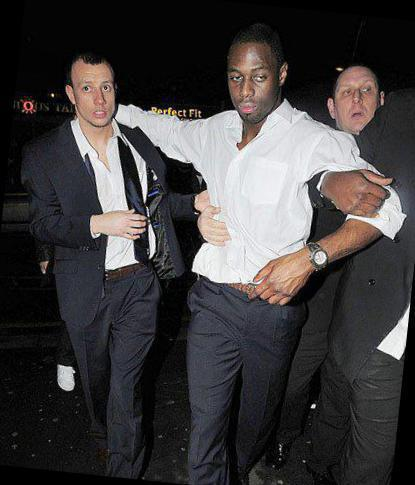Drunk: (230, 44, 277, 120)
Sober: (337, 68, 379, 131), (73, 63, 116, 123)
